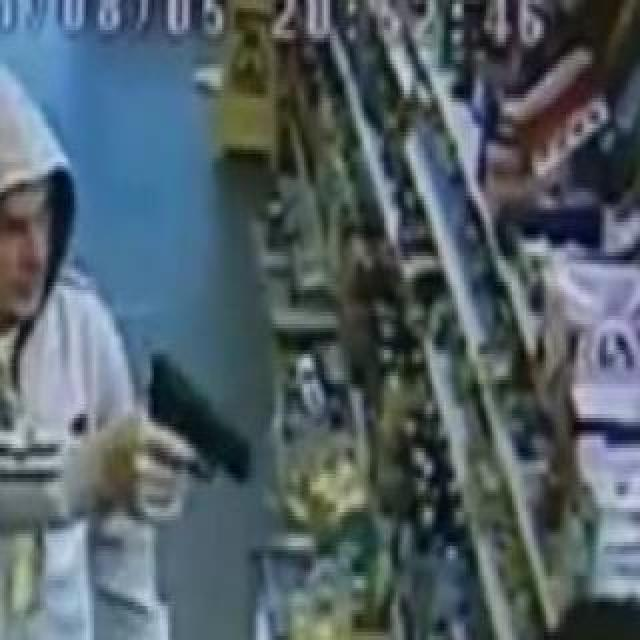Guns: (134, 309, 271, 538)
